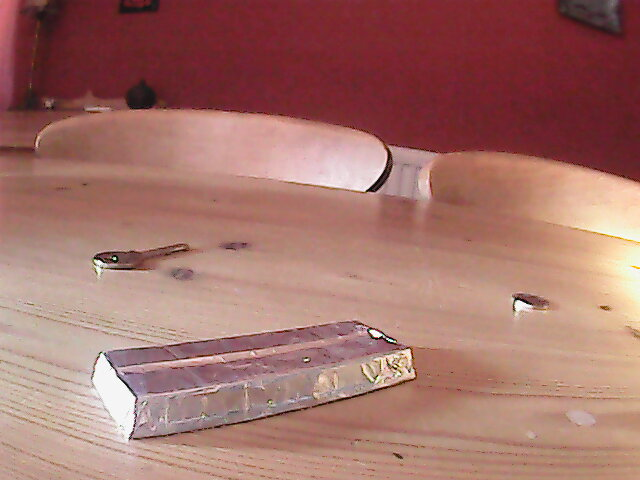Coin: (511, 292, 551, 312)
Foil: (85, 319, 418, 441)
Key: (87, 240, 192, 274)
